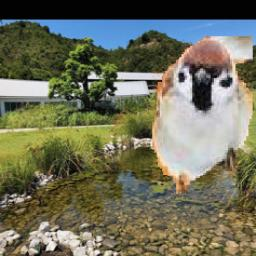Sparrow: (153, 36, 254, 211)
